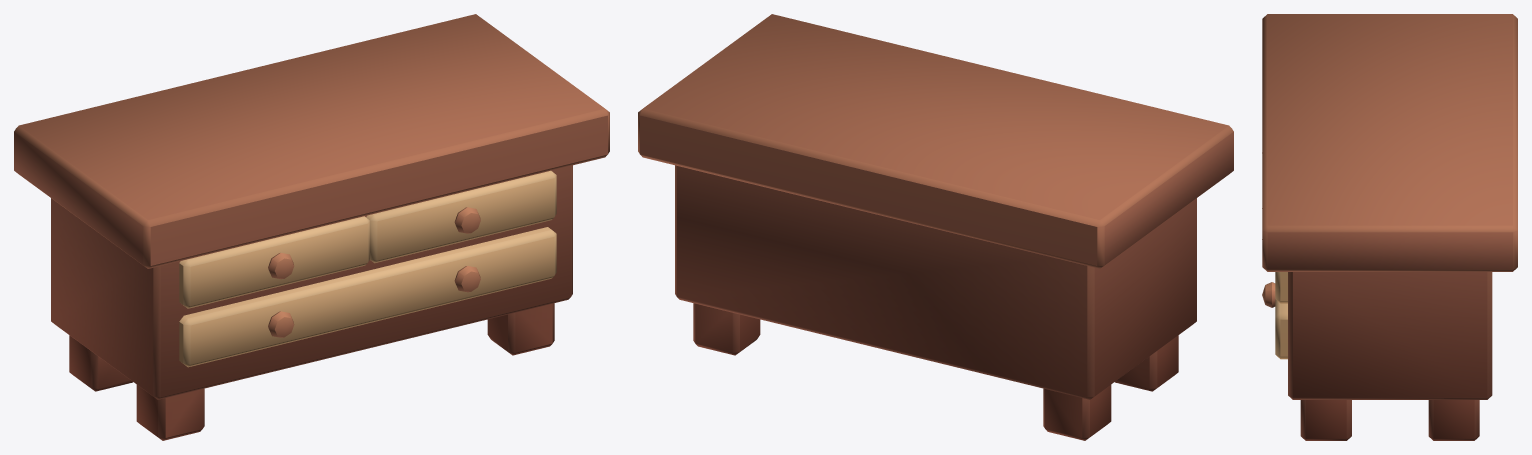
3 views of the same model, side by side, from view 1: azimuth 30°, elevation 25°; view 2: azimuth 150°, elevation 25°; view 3: azimuth 270°, elevation 25° (orthographic). The views are drawn at different scales.
Parts seen in each view (by area): view 1: cabinet_medium; view 2: cabinet_medium; view 3: cabinet_medium.
Part boxes in pixels (bbox=[...]): cabinet_medium: bbox=[14, 14, 609, 440]; cabinet_medium: bbox=[638, 14, 1233, 440]; cabinet_medium: bbox=[1262, 14, 1517, 440].
Size of the model in its own units: 2 by 1 by 1.
Materials: 1 (1 with a texture image).
